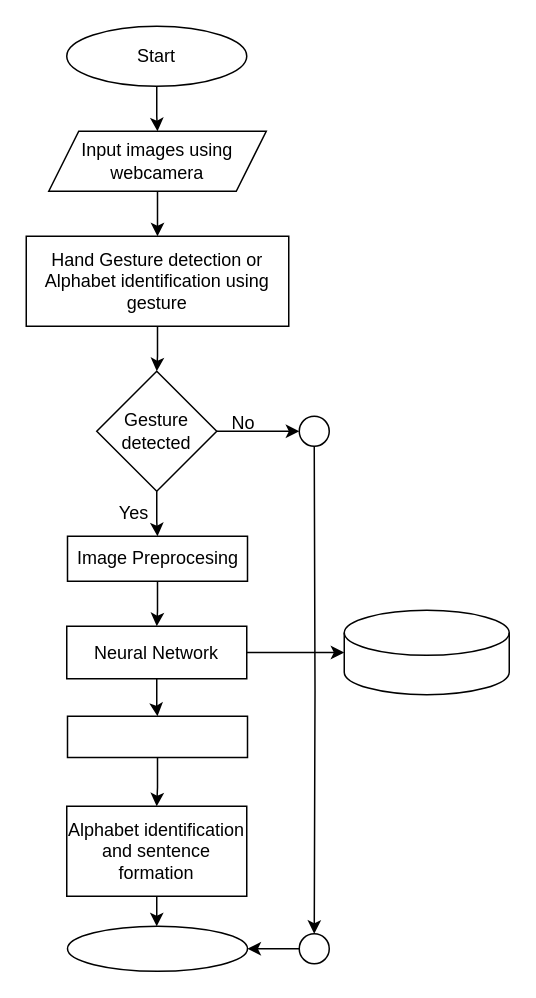
Some shapes in this 536 by 998 pixel diagram are drawn without their labels. The shapes that lost their labels are listed below. From the top down, each one's centre as x and y in pixels, then its label:
At [426,652]: "Trained Dataset".
At [157,736]: "Gesture recognition".
At [157,948]: "Stop".
